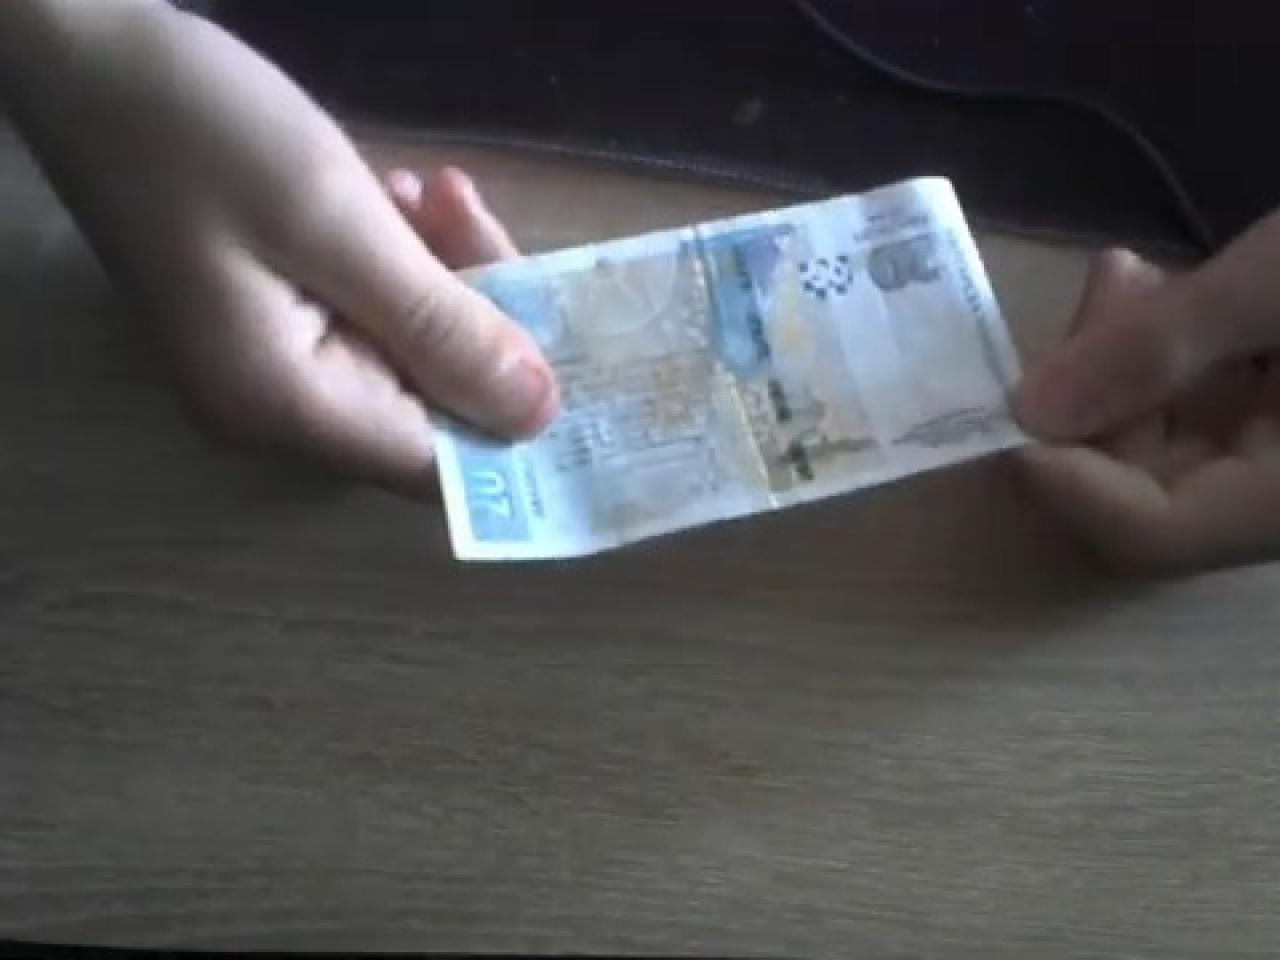20leva: (429, 178, 1032, 563)
